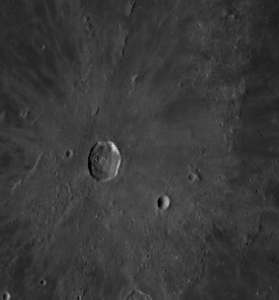crater: (73, 117, 138, 203), (146, 176, 188, 229), (53, 141, 81, 171)
